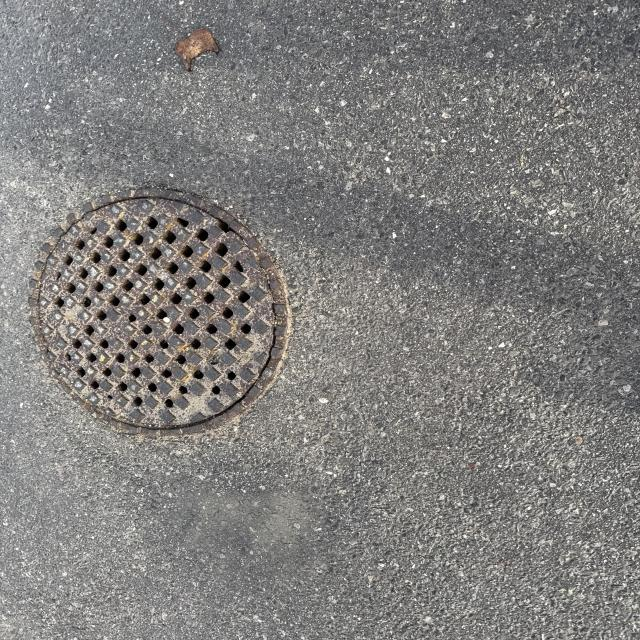Manhole: (27, 182, 294, 438)
